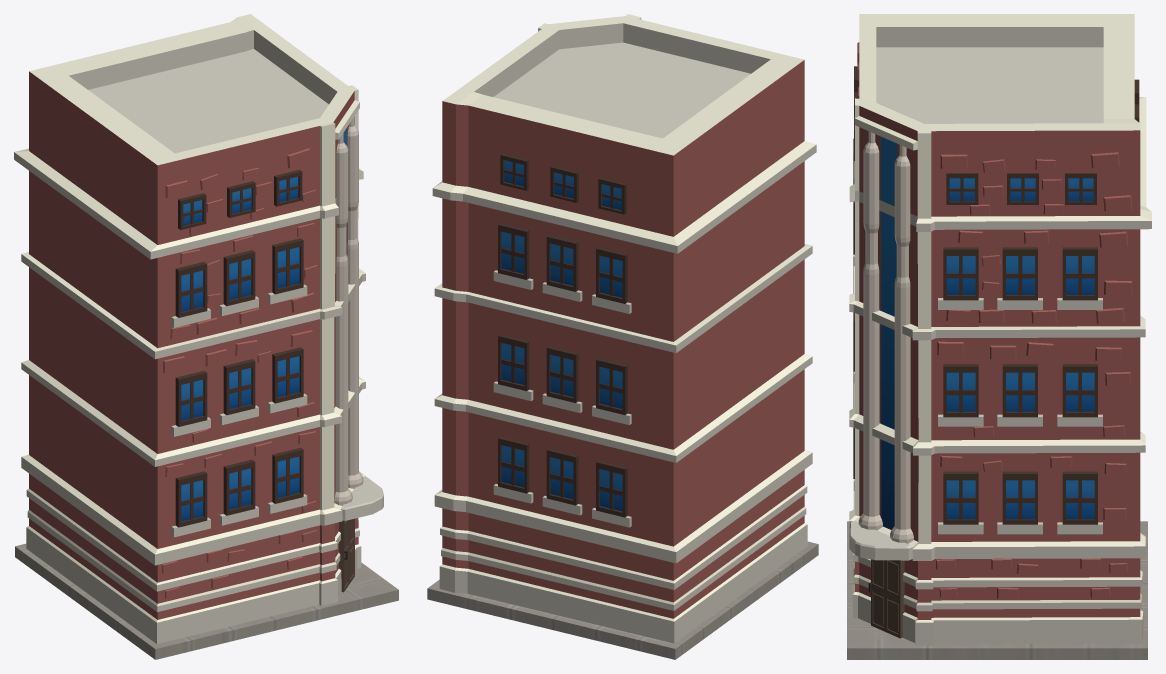
Rendered from Hotel_01.fbx.
3 views of the same model, side by side, from view 1: azimuth 30°, elevation 25°; view 2: azimuth 150°, elevation 25°; view 3: azimuth 270°, elevation 25° (orthographic). The views are drawn at different scales.
Visible parts, largest first — view 1: Hotel_01; view 2: Hotel_01; view 3: Hotel_01.
Boxes of the visible parts, bbox=[...] form: Hotel_01: bbox=[14, 14, 398, 659]; Hotel_01: bbox=[427, 14, 818, 659]; Hotel_01: bbox=[847, 14, 1151, 659].
Size of the model in its own units: 1208 by 2304 by 1216.
